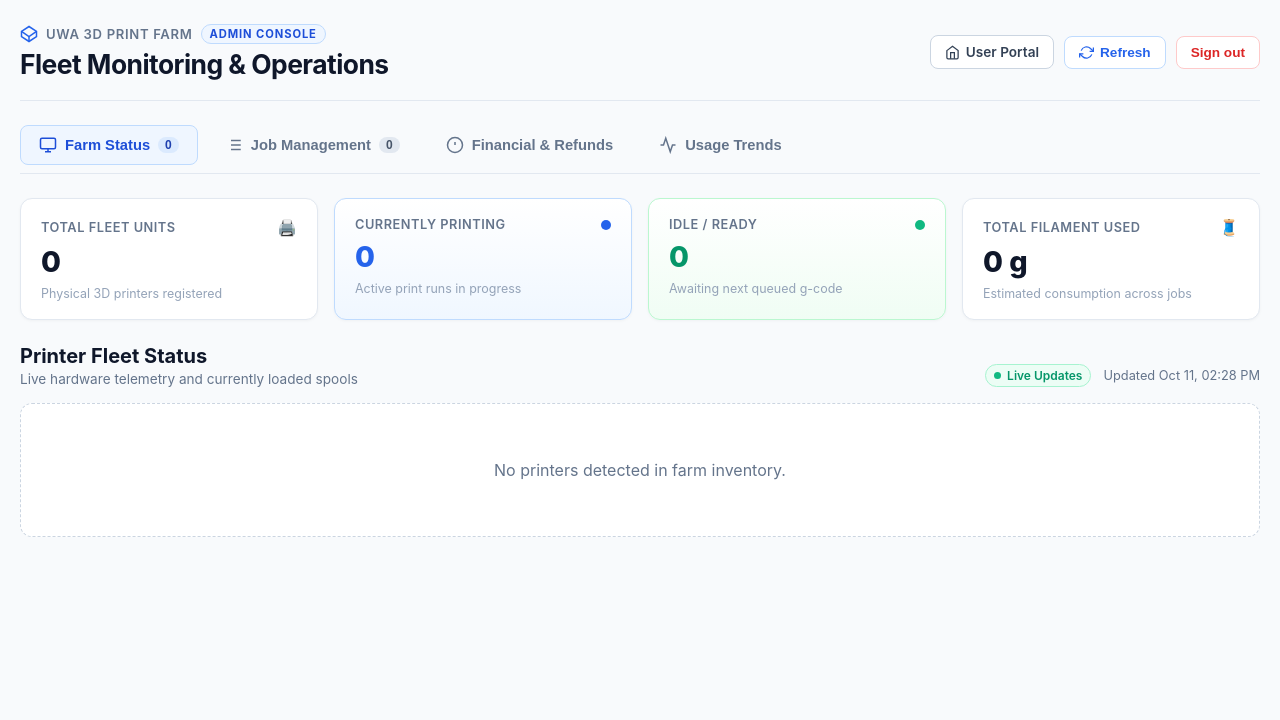
Test: AdminDashboardComponent usage trends › renders the tab, summary cards and one bar column per day in each chart
The image size is (1280, 720).
Step 1. Click the button with class "tab-btn" showing "Usage Trends" → [720, 145], box [640,125,801,165]
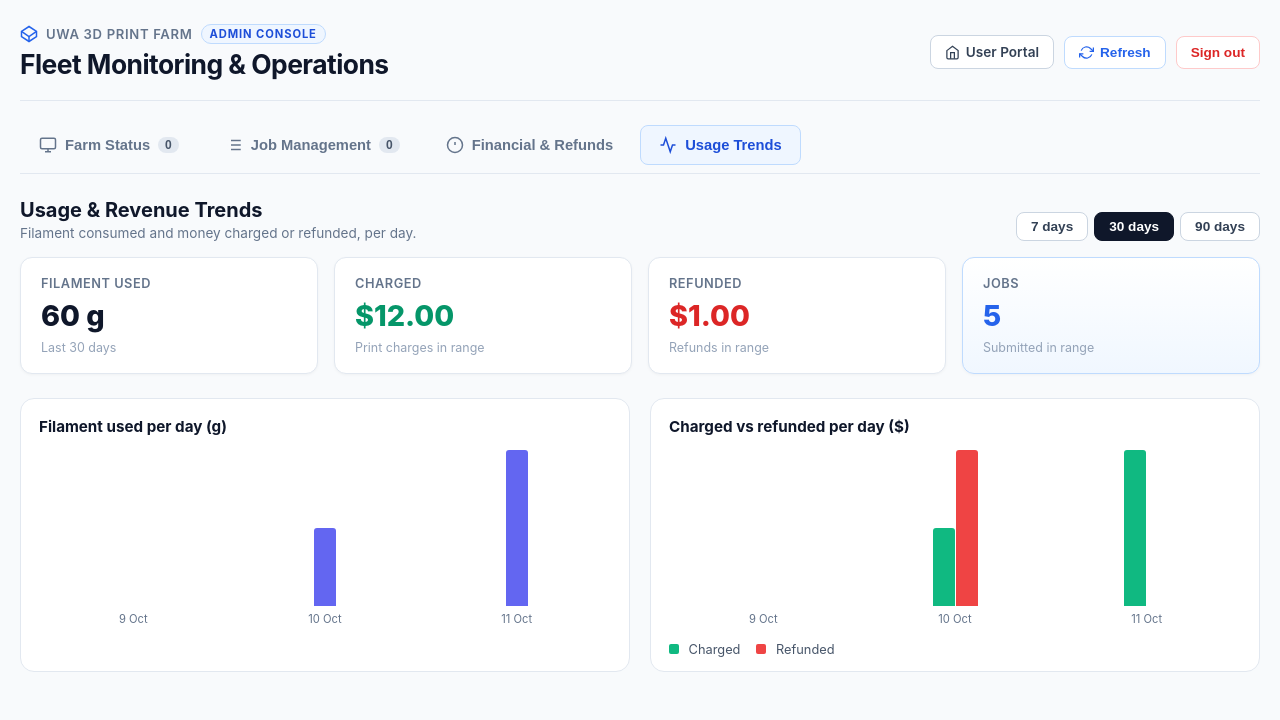
Check: the number of elements with class "stat-card" is 4, box [20,257,318,374]; [334,257,632,374]; [648,257,946,374]; [962,257,1260,374]
Check: the number of elements with class "trend-chart" is 2, box [20,398,630,672]; [650,398,1260,672]
Check: the number of elements with class "bar-col" is 6, box [119,612,148,626]; [308,528,342,626]; [501,450,532,626]; [749,612,778,626]; [932,450,978,626]; [1124,450,1162,626]
